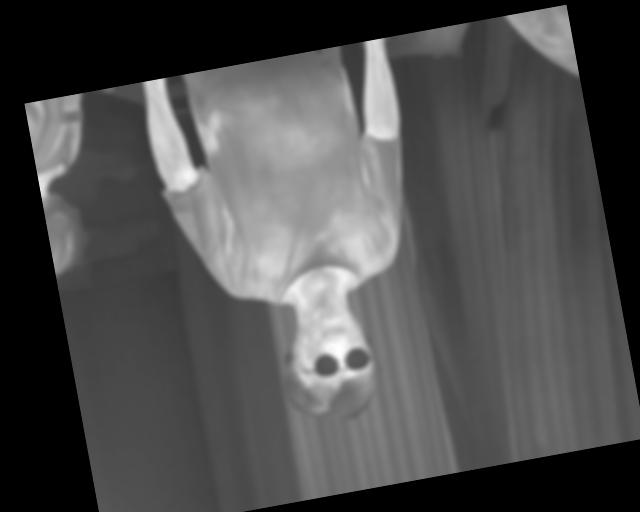face: (273, 298, 384, 429)
